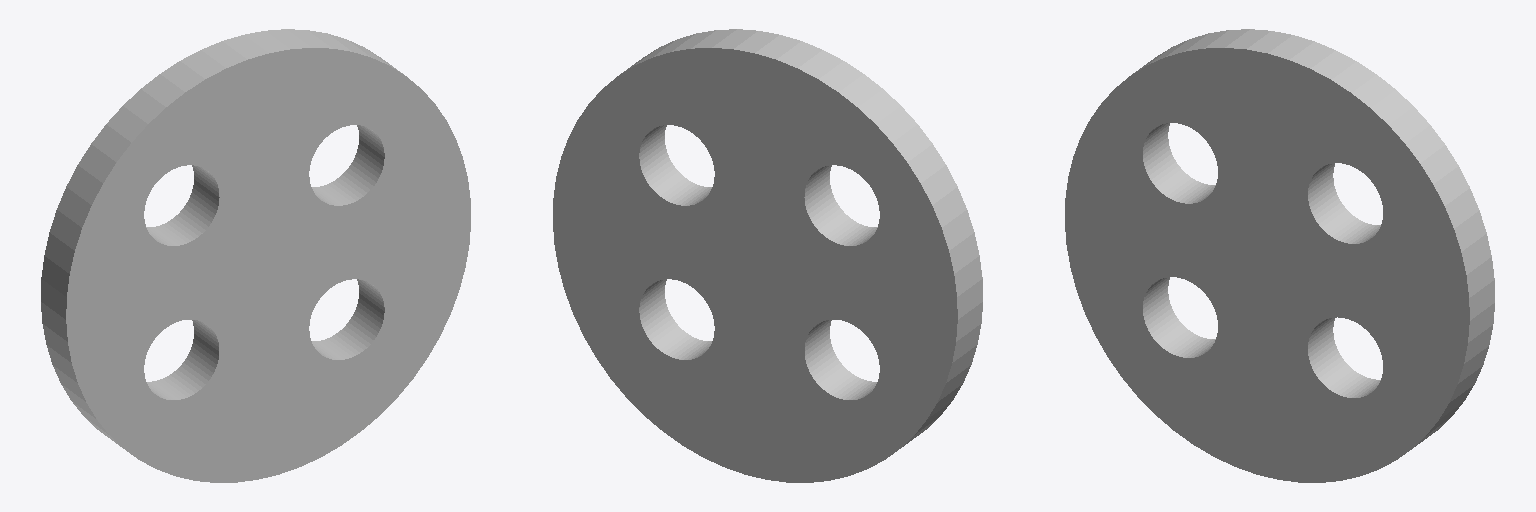
Rendered from BigButton.obj.
3 renders of one model, left to right at view 1: azimuth 30°, elevation 25°; view 2: azimuth 150°, elevation 25°; view 3: azimuth 330°, elevation 25°, orthographic.
Visible parts, largest first — view 1: object_1; view 2: object_1; view 3: object_1.
Boxes of the visible parts, x1,y1,x2,y2 form: object_1: [41, 29, 470, 482]; object_1: [553, 29, 982, 482]; object_1: [1065, 29, 1494, 482].
Size of the model in its own units: 0.022 by 0.022 by 0.0024.